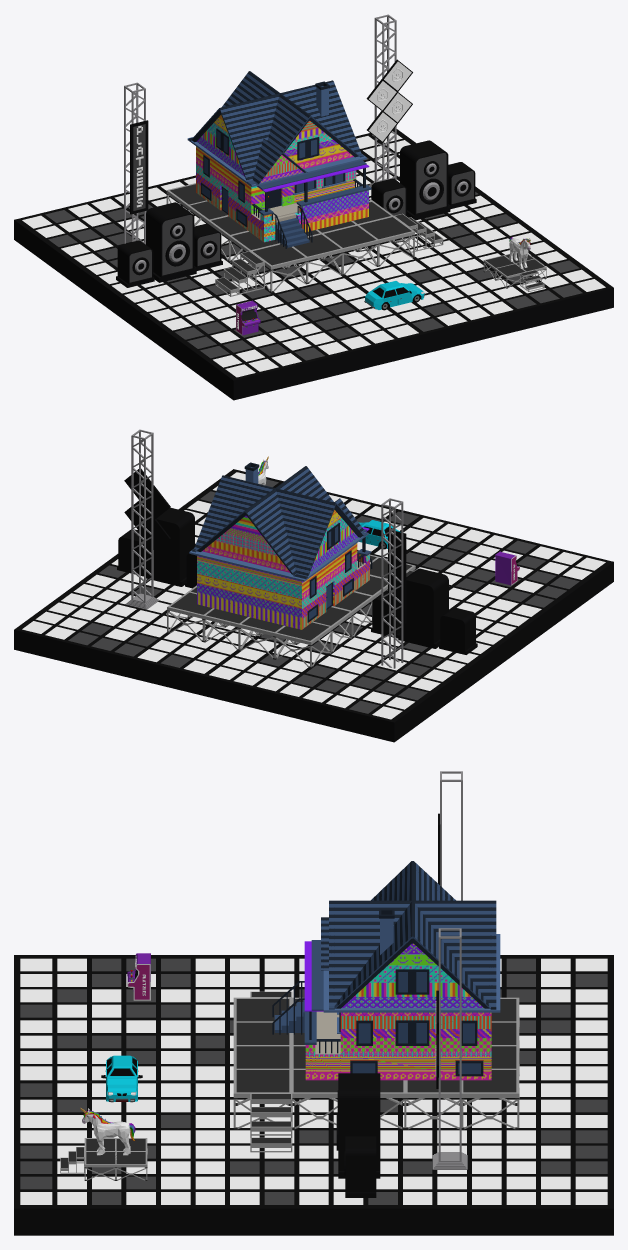
3 renders of one model, top to bottom at view 1: azimuth 30°, elevation 25°; view 2: azimuth 150°, elevation 25°; view 3: azimuth 270°, elevation 25°, orthographic. The views are drawn at different scales.
Parts seen in each view (by area): view 1: Cube.008, Cube.676, VEHICLES_CAR, OBJRANDOM_ARCADE; view 2: Cube.008, Cube.676, OBJRANDOM_ARCADE, VEHICLES_CAR; view 3: Cube.008, Cube.676, VEHICLES_CAR, ANIMAL_UNICORNIO, OBJRANDOM_ARCADE.
Part boxes in pixels (box(x1,y1,x2,y2)): Cube.008: box(14, 14, 613, 400); Cube.676: box(187, 71, 371, 248); VEHICLES_CAR: box(364, 281, 424, 310); OBJRANDOM_ARCADE: box(236, 300, 260, 335); Cube.008: box(14, 429, 613, 742); Cube.676: box(189, 462, 372, 629); OBJRANDOM_ARCADE: box(495, 551, 519, 585); VEHICLES_CAR: box(358, 520, 400, 549); Cube.008: box(14, 771, 613, 1235); Cube.676: box(272, 861, 500, 1080); VEHICLES_CAR: box(101, 1055, 142, 1102); ANIMAL_UNICORNIO: box(80, 1108, 135, 1155); OBJRANDOM_ARCADE: box(127, 953, 150, 1000).
Bounding box in the file's own units: 4000 × 1945 × 4000.
Materials: 53 (5 with a texture image).
